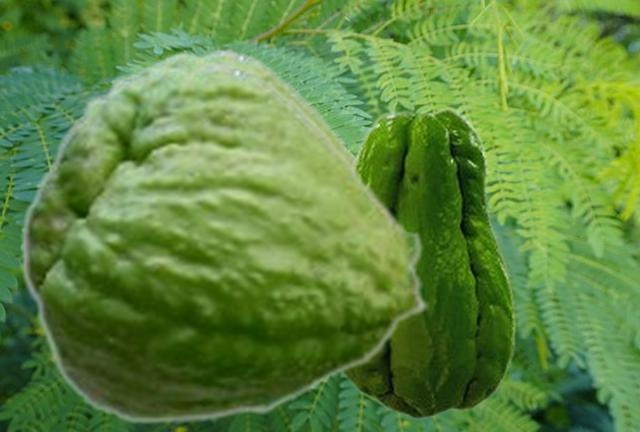sayote: (20, 60, 431, 425), (340, 106, 515, 419), (104, 47, 354, 158)
